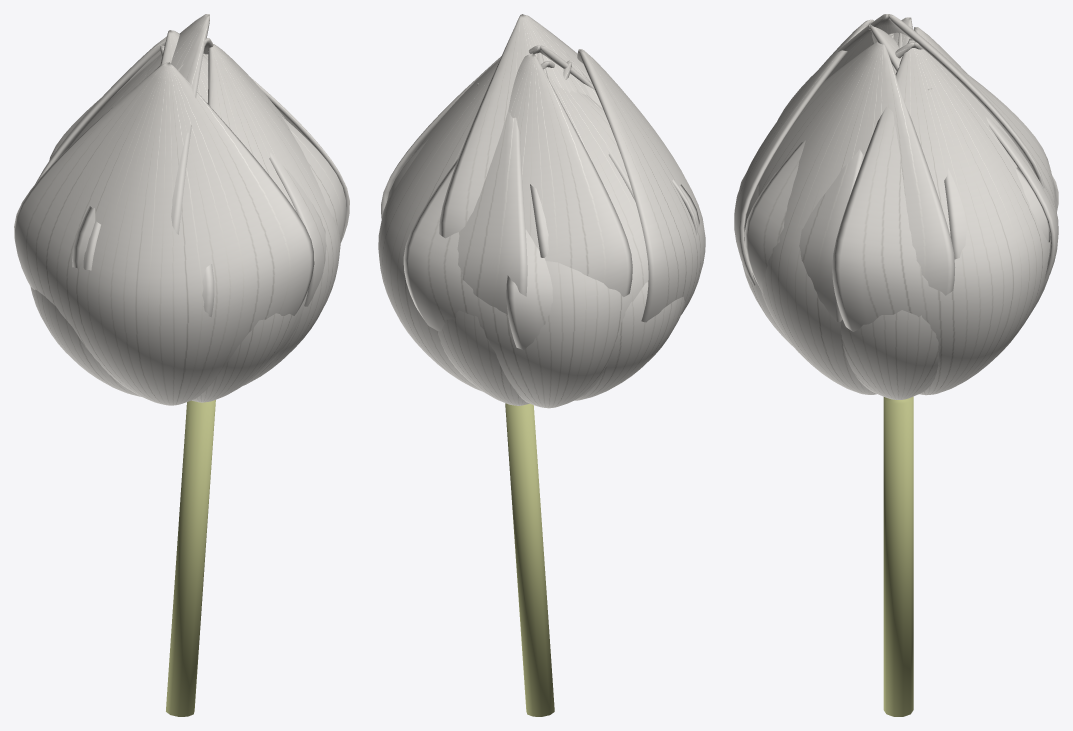
File: lotus_bud.glb
The picture shows the model from 3 angles, left to right: view 1: azimuth 30°, elevation 25°; view 2: azimuth 150°, elevation 25°; view 3: azimuth 270°, elevation 25°; orthographic projection. The views are drawn at different scales.
Visible parts, largest first — view 1: petal.007, petal.001, Cylinder, petal, petal.013, petal.006, petal.002, petal.004, petal.003, petal.005; view 2: petal.005, petal.004, petal.003, petal.007, Cylinder, petal.013, petal.006, petal.001, petal.014; view 3: petal.003, petal.001, petal.002, Cylinder, petal, petal.007, petal.013, petal.005, petal.004, petal.012.
Boxes of the visible parts, <box> form: petal.007: <box>14,62,314,405</box>; petal.001: <box>207,44,340,385</box>; Cylinder: <box>166,400,215,716</box>; petal: <box>72,55,346,402</box>; petal.013: <box>145,14,209,234</box>; petal.006: <box>30,264,214,396</box>; petal.002: <box>203,53,326,306</box>; petal.004: <box>35,36,166,183</box>; petal.003: <box>49,77,349,242</box>; petal.005: <box>70,58,156,270</box>; petal.005: <box>403,75,699,408</box>; petal.004: <box>387,53,632,405</box>; petal.003: <box>378,59,527,391</box>; petal.007: <box>577,49,705,322</box>; Cylinder: <box>505,403,554,716</box>; petal.013: <box>439,14,592,238</box>; petal.006: <box>506,229,685,400</box>; petal.001: <box>381,56,501,218</box>; petal.014: <box>530,184,548,257</box>; petal.003: <box>832,38,1056,395</box>; petal.001: <box>757,42,955,394</box>; petal.002: <box>744,65,1050,399</box>; Cylinder: <box>883,396,913,716</box>; petal: <box>742,33,893,345</box>; petal.007: <box>734,19,873,286</box>; petal.013: <box>777,14,1044,188</box>; petal.005: <box>986,117,1058,292</box>; petal.004: <box>914,27,1048,311</box>; petal.012: <box>868,24,902,70</box>.
Size of the model in its own units: 0.4864 by 1.14 by 0.4748.
2 materials, 1 textured.
